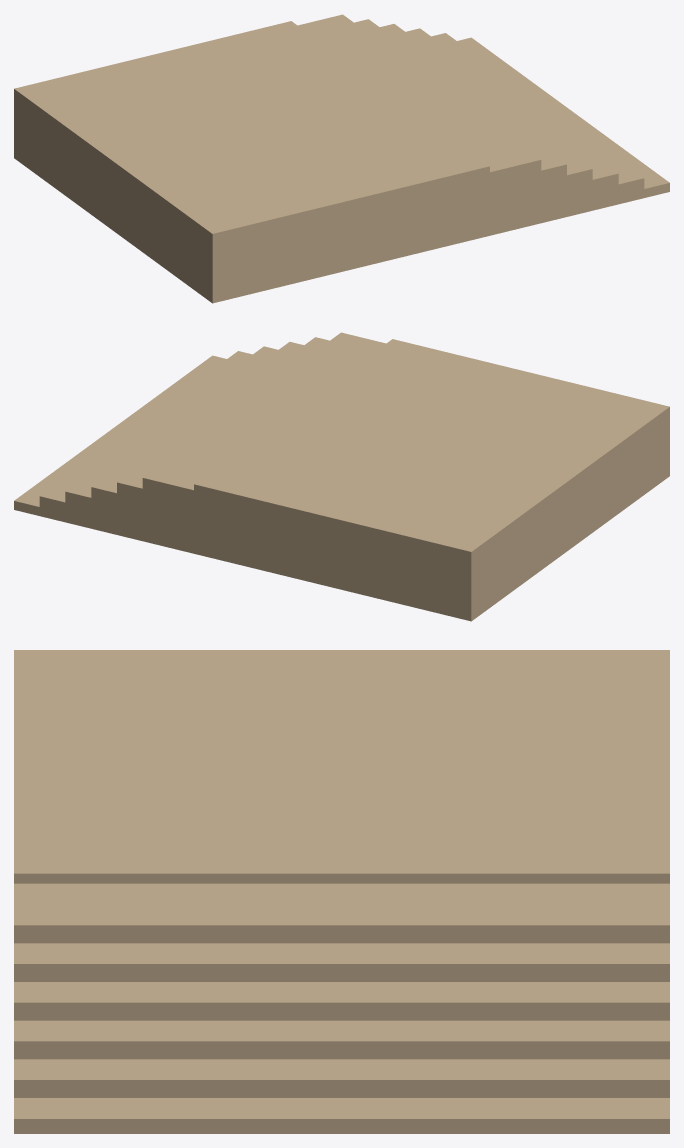
The model's file is SM_stairs_02.fbx.
3 renders of one model, top to bottom at view 1: azimuth 30°, elevation 25°; view 2: azimuth 150°, elevation 25°; view 3: azimuth 270°, elevation 25°, orthographic. The views are drawn at different scales.
Parts seen in each view (by area): view 1: stairs_02; view 2: stairs_02; view 3: stairs_02.
Part boxes in pixels (<box>): stairs_02: <box>14,14,669,303</box>; stairs_02: <box>14,332,669,621</box>; stairs_02: <box>14,650,669,1133</box>.
Bounding box in the file's own units: 660 × 95.78 × 496.
